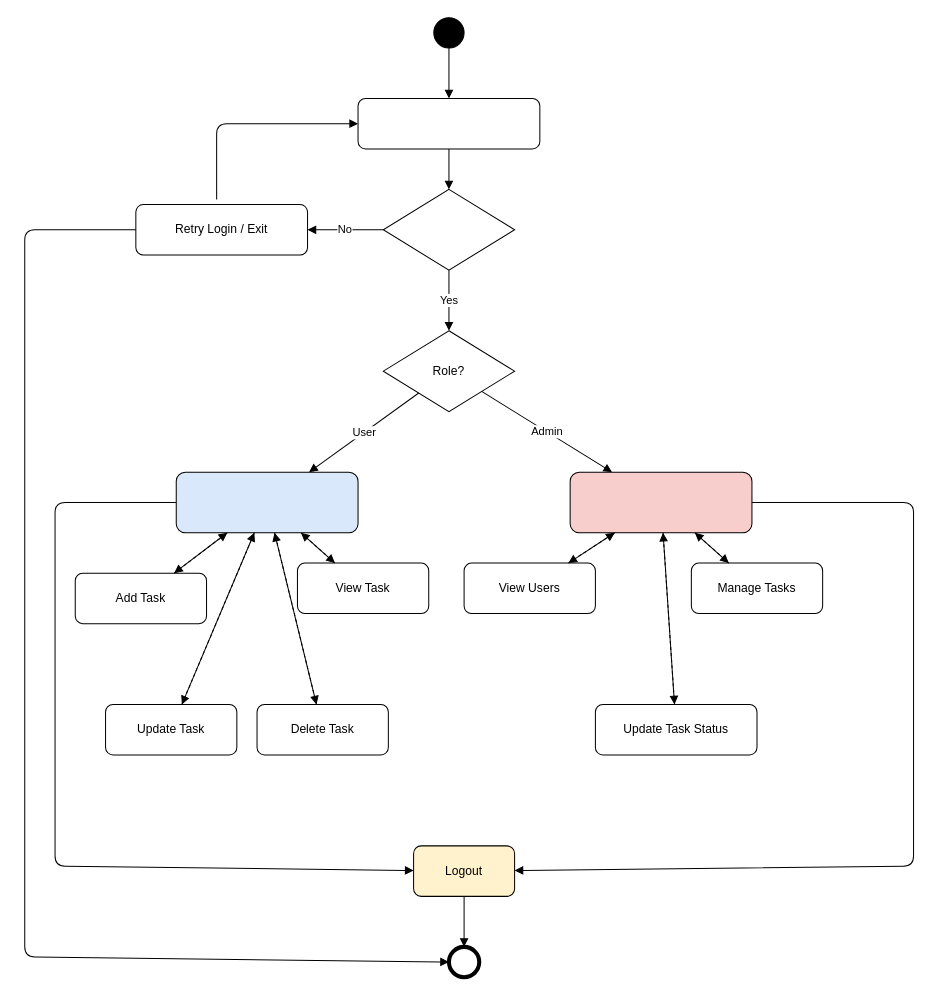
This 939x997 diagram has some shape labels left out. Here are the shapes that lost their labels. From the top down, the centre of each, then its label:
At (448,123): "Login / Sign Up".
At (448,229): "Authenticated?".
At (266,502): "User Dashboard".
At (660,502): "Admin Dashboard".
